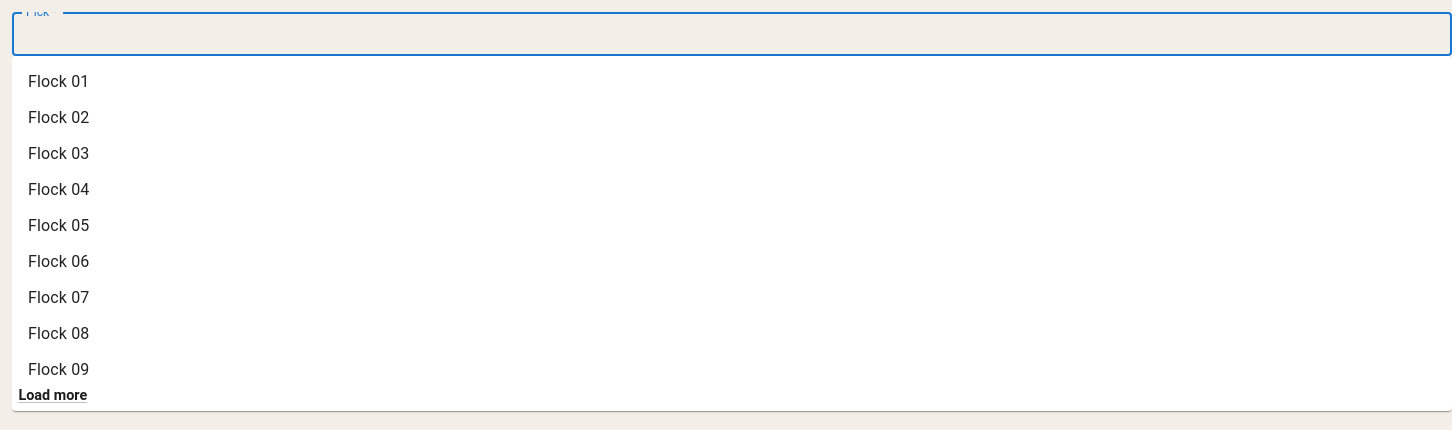
Test: #512 P1-2: commit does not cancel or wedge an in-flight extension › committing an option while Load more is in flight lets the extension settle; live state and Load more recover
Expected: the option "Flock 01" is shown, [28,72,90,91]
Click the button "Load more" at (53, 396), box [12,380,94,411]
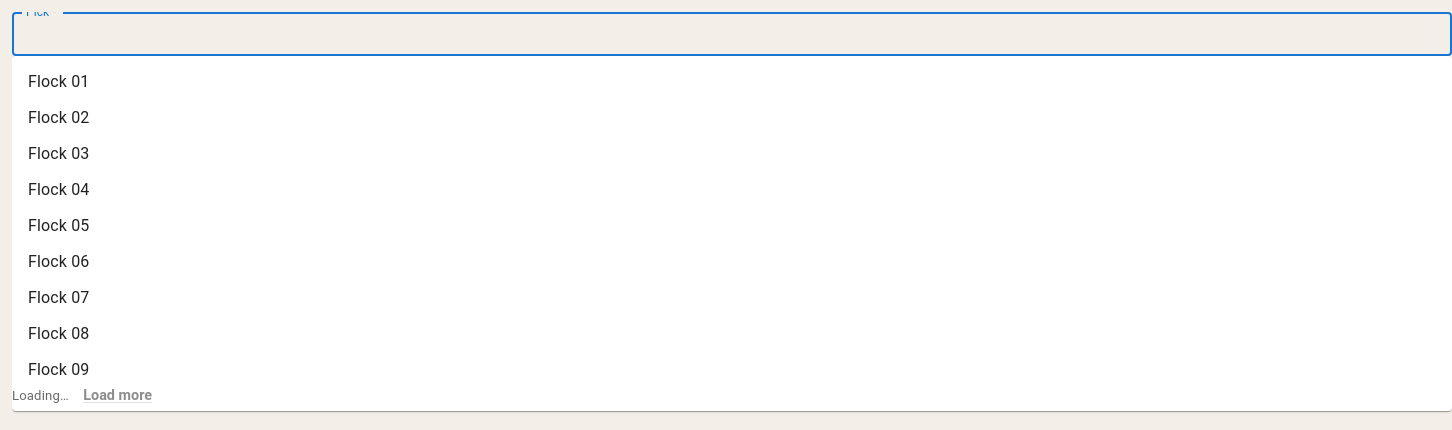
Expected: the message reads "Loading…", [12,388,69,403]
# Selection transition: commit a page-one option NOW.
Click the option "Flock 01" at (59, 82), box [28,72,90,91]
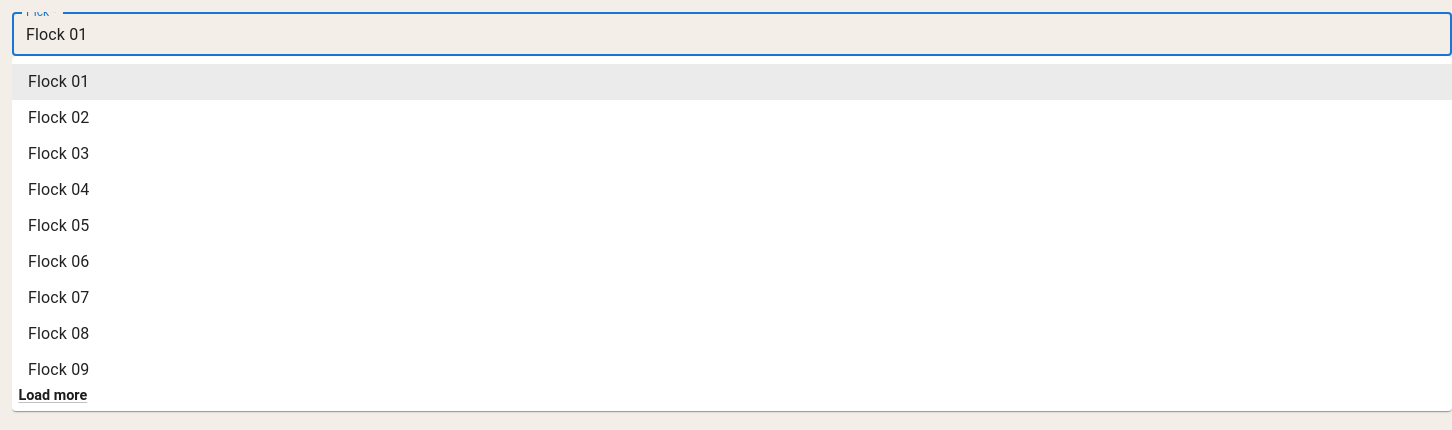
Expected: the dropdown holds "Flock 01", [18,20,1387,48]
Expected: the message "Loading…" is gone
Expected: the button "Load more" is enabled, [12,380,94,411]
